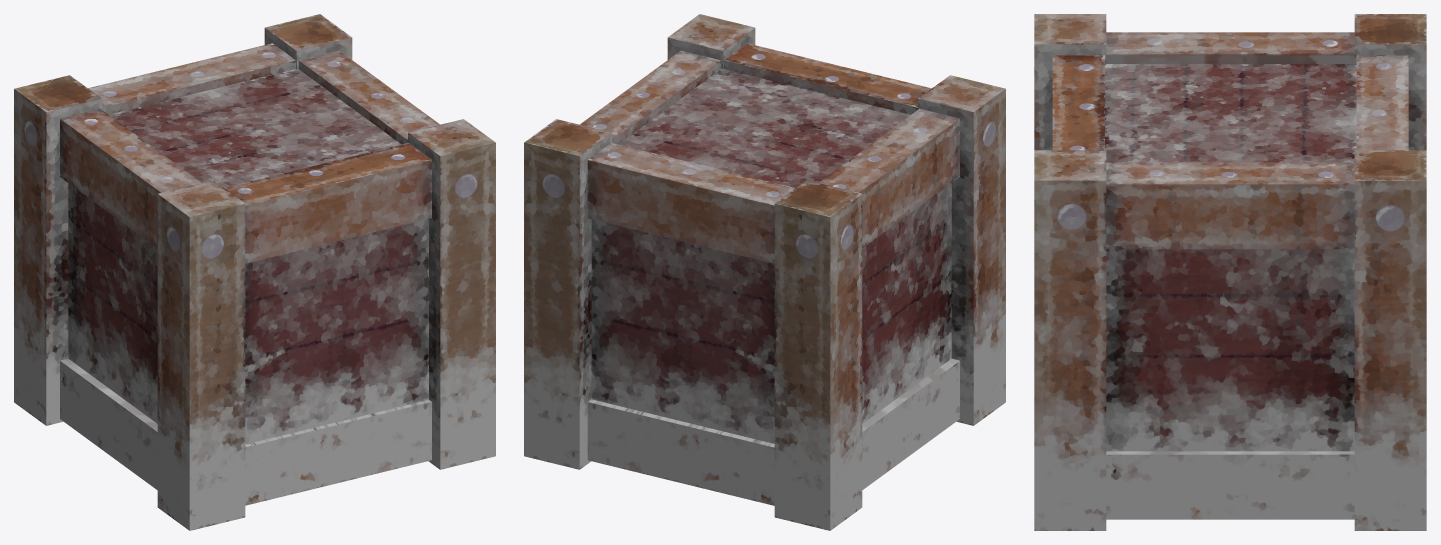
3 views of the same model, side by side, from view 1: azimuth 30°, elevation 25°; view 2: azimuth 150°, elevation 25°; view 3: azimuth 270°, elevation 25° (orthographic). The views are drawn at different scales.
Visible parts, largest first — view 1: bad_box; view 2: bad_box; view 3: bad_box.
Part boxes in pixels (box(x1,y1,x2,y2)): bad_box: box(14, 14, 495, 530); bad_box: box(524, 14, 1005, 530); bad_box: box(1034, 14, 1426, 530).
Bounding box in the file's own units: 3.11 × 3.04 × 3.09.
Materials: 1 (1 with a texture image).
